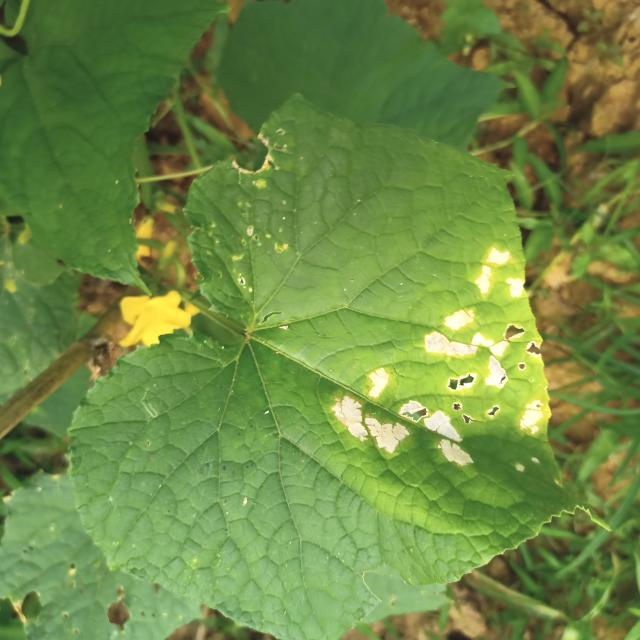disease_cucumber: (331, 235, 548, 498)
